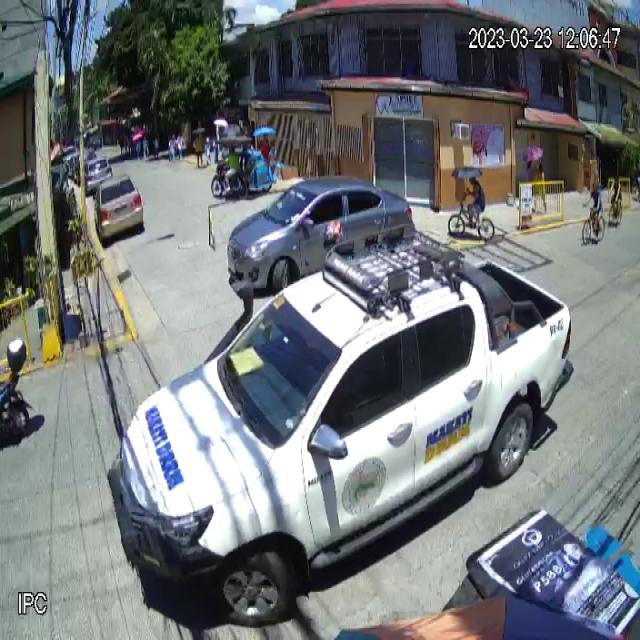Car: (111, 223, 576, 625), (226, 174, 414, 297)
